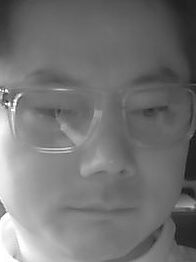glass: (8, 84, 96, 152), (120, 83, 196, 147)
mouth: (67, 191, 140, 230)
